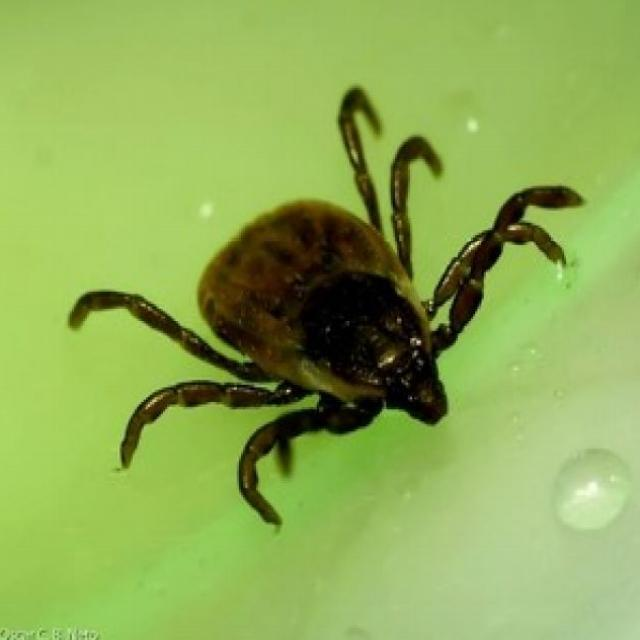Rhipicephalus Sanguineus-F: (68, 85, 586, 530)
